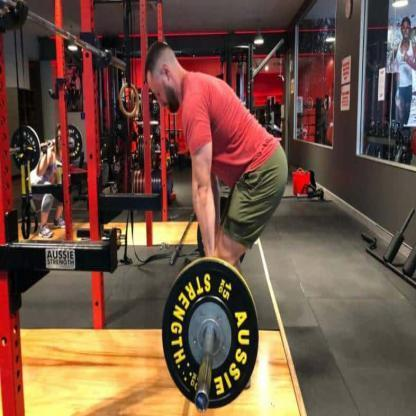barbell: (163, 257, 258, 411)
